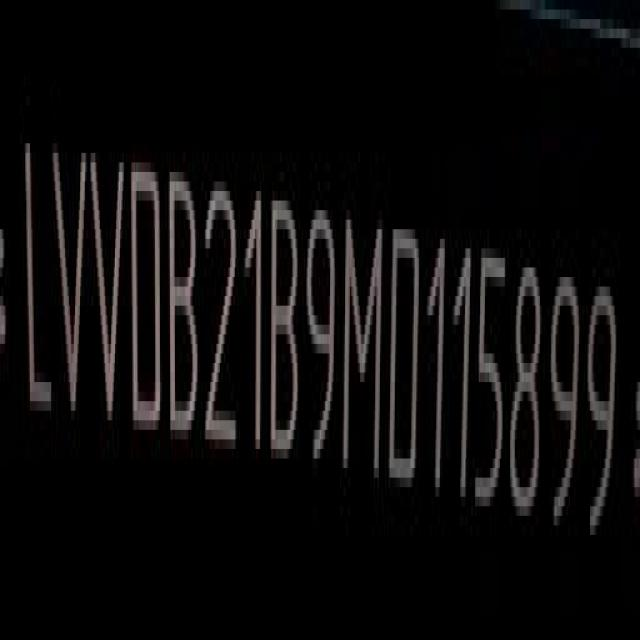1: (246, 189, 266, 460), (454, 239, 473, 504), (427, 237, 446, 498)
2: (208, 181, 240, 453)
5: (476, 241, 507, 506)
8: (512, 255, 543, 520)
9: (550, 273, 583, 534), (306, 203, 338, 470), (587, 287, 620, 542)
B: (170, 172, 203, 447), (273, 194, 303, 462)
D: (129, 154, 163, 437), (391, 219, 423, 490)
L: (23, 130, 51, 425)
M: (343, 210, 384, 484)
V: (91, 146, 129, 438), (53, 140, 89, 430)
